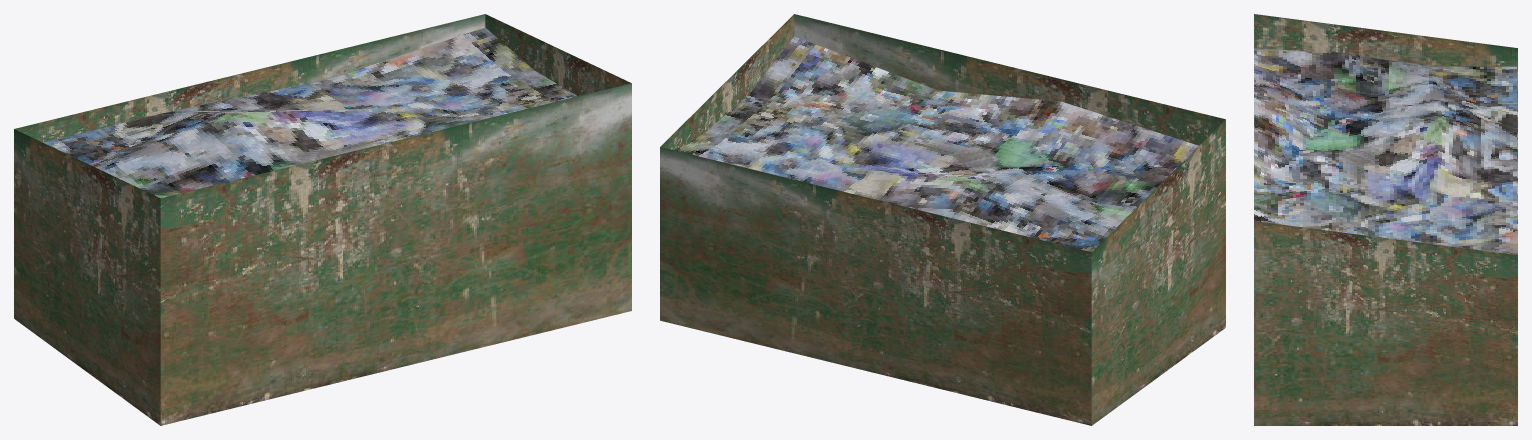
Rendered from garbage_bin.glb.
3 renders of one model, left to right at view 1: azimuth 30°, elevation 25°; view 2: azimuth 150°, elevation 25°; view 3: azimuth 270°, elevation 25°, orthographic. The views are drawn at different scales.
Parts seen in each view (by area): view 1: GarbageBin-col, Trash; view 2: GarbageBin-col, Trash; view 3: GarbageBin-col, Trash.
Boxes of the visible parts, x1,y1,x2,y2 form: GarbageBin-col: (14,14,631,425); Trash: (43,27,577,198); GarbageBin-col: (660,14,1225,425); Trash: (675,36,1198,251); GarbageBin-col: (1254,14,1517,425); Trash: (1254,48,1517,254).
Bounding box in the file's own units: 13 × 6 × 7.
2 materials, 2 textured.
